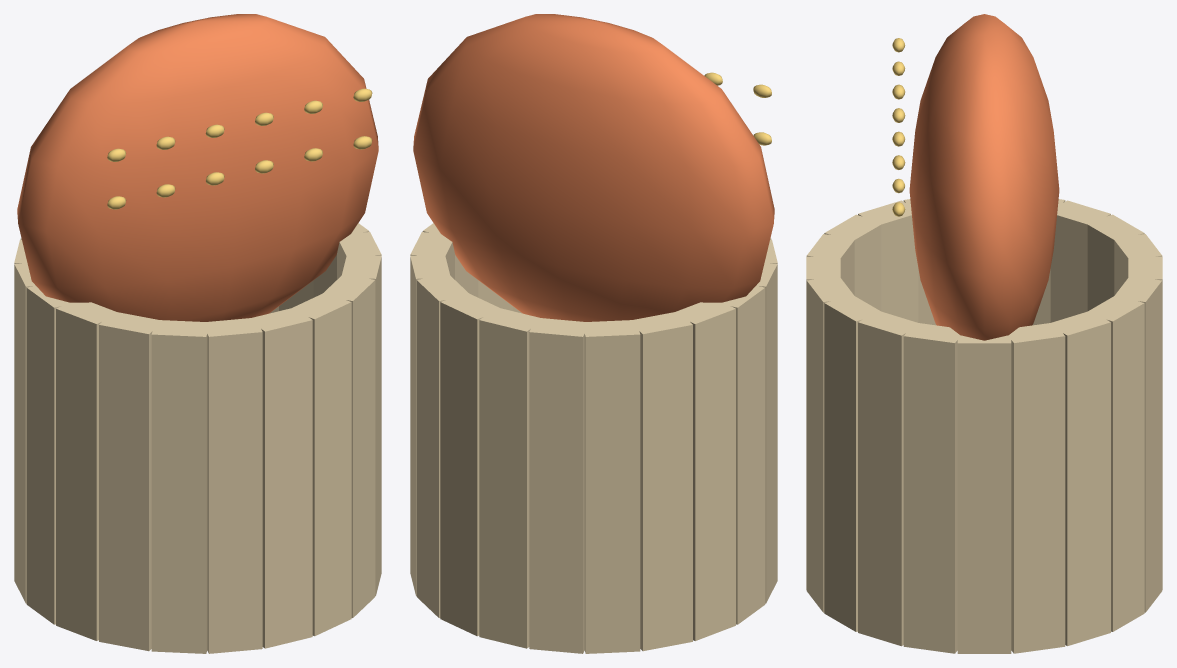
The model's file is SeedHotteok_blockout.glb.
The picture shows the model from 3 angles, left to right: view 1: azimuth 30°, elevation 25°; view 2: azimuth 150°, elevation 25°; view 3: azimuth 270°, elevation 25°; orthographic projection. The views are drawn at different scales.
Parts seen in each view (by area): view 1: FOOD02_SeedHotteok_FoldedDough_L0, FOOD02_SeedHotteok_PaperCupRim13_L0, FOOD02_SeedHotteok_PaperCupRim14_L0, FOOD02_SeedHotteok_PaperCupRim12_L0, FOOD02_SeedHotteok_PaperCupRim15_L0, FOOD02_SeedHotteok_PaperCupRim11_L0, FOOD02_SeedHotteok_PaperCupRim16_L0, FOOD02_SeedHotteok_PaperCupRim10_L0, FOOD02_SeedHotteok_PaperCupRim17_L0, FOOD02_SeedHotteok_PaperCupRim9_L0, FOOD02_SeedHotteok_PaperCupRim18_L0, FOOD02_SeedHotteok_PaperCupRim19_L0 (+1 smaller); view 2: FOOD02_SeedHotteok_FoldedDough_L0, FOOD02_SeedHotteok_PaperCupRim7_L0, FOOD02_SeedHotteok_PaperCupRim6_L0, FOOD02_SeedHotteok_PaperCupRim8_L0, FOOD02_SeedHotteok_PaperCupRim5_L0, FOOD02_SeedHotteok_PaperCupRim9_L0, FOOD02_SeedHotteok_PaperCupRim4_L0, FOOD02_SeedHotteok_PaperCupRim10_L0, FOOD02_SeedHotteok_PaperCupRim3_L0, FOOD02_SeedHotteok_PaperCupRim11_L0, FOOD02_SeedHotteok_PaperCupRim2_L0, FOOD02_SeedHotteok_PaperCupRim1_L0 (+1 smaller); view 3: FOOD02_SeedHotteok_FoldedDough_L0, FOOD02_SeedHotteok_PaperCupRim1_L0, FOOD02_SeedHotteok_PaperCupRim19_L0, FOOD02_SeedHotteok_PaperCupRim0_L0, FOOD02_SeedHotteok_PaperCupRim18_L0, FOOD02_SeedHotteok_PaperCupRim2_L0, FOOD02_SeedHotteok_PaperCupRim17_L0, FOOD02_SeedHotteok_PaperCupRim3_L0, FOOD02_SeedHotteok_PaperCupRim4_L0, FOOD02_SeedHotteok_PaperCupRim16_L0, FOOD02_SeedHotteok_PaperCupRim8_L0, FOOD02_SeedHotteok_PaperCupRim12_L0 (+8 smaller).
Part boxes in pixels (left/top/right/bottom): FOOD02_SeedHotteok_FoldedDough_L0: left=17, top=14, right=378, bottom=321; FOOD02_SeedHotteok_PaperCupRim13_L0: left=151, top=320, right=209, bottom=653; FOOD02_SeedHotteok_PaperCupRim14_L0: left=207, top=317, right=262, bottom=653; FOOD02_SeedHotteok_PaperCupRim12_L0: left=99, top=312, right=162, bottom=651; FOOD02_SeedHotteok_PaperCupRim15_L0: left=251, top=307, right=312, bottom=648; FOOD02_SeedHotteok_PaperCupRim11_L0: left=56, top=302, right=119, bottom=640; FOOD02_SeedHotteok_PaperCupRim16_L0: left=292, top=294, right=351, bottom=636; FOOD02_SeedHotteok_PaperCupRim10_L0: left=26, top=285, right=74, bottom=624; FOOD02_SeedHotteok_PaperCupRim17_L0: left=321, top=276, right=375, bottom=617; FOOD02_SeedHotteok_PaperCupRim9_L0: left=14, top=263, right=35, bottom=603; FOOD02_SeedHotteok_PaperCupRim18_L0: left=341, top=255, right=381, bottom=595; FOOD02_SeedHotteok_PaperCupRim19_L0: left=337, top=232, right=381, bottom=279; FOOD02_SeedHotteok_FoldedDough_L0: left=413, top=14, right=774, bottom=321; FOOD02_SeedHotteok_PaperCupRim7_L0: left=582, top=320, right=640, bottom=653; FOOD02_SeedHotteok_PaperCupRim6_L0: left=529, top=318, right=587, bottom=653; FOOD02_SeedHotteok_PaperCupRim8_L0: left=634, top=312, right=692, bottom=651; FOOD02_SeedHotteok_PaperCupRim5_L0: left=479, top=307, right=543, bottom=648; FOOD02_SeedHotteok_PaperCupRim9_L0: left=672, top=302, right=735, bottom=640; FOOD02_SeedHotteok_PaperCupRim4_L0: left=440, top=294, right=501, bottom=636; FOOD02_SeedHotteok_PaperCupRim10_L0: left=717, top=285, right=765, bottom=624; FOOD02_SeedHotteok_PaperCupRim3_L0: left=416, top=276, right=470, bottom=617; FOOD02_SeedHotteok_PaperCupRim11_L0: left=756, top=263, right=777, bottom=603; FOOD02_SeedHotteok_PaperCupRim2_L0: left=410, top=255, right=450, bottom=595; FOOD02_SeedHotteok_PaperCupRim1_L0: left=410, top=232, right=454, bottom=279; FOOD02_SeedHotteok_FoldedDough_L0: left=909, top=14, right=1059, bottom=340; FOOD02_SeedHotteok_PaperCupRim1_L0: left=1011, top=323, right=1065, bottom=653; FOOD02_SeedHotteok_PaperCupRim19_L0: left=903, top=323, right=957, bottom=653; FOOD02_SeedHotteok_PaperCupRim0_L0: left=957, top=333, right=1011, bottom=653; FOOD02_SeedHotteok_PaperCupRim18_L0: left=858, top=310, right=920, bottom=646; FOOD02_SeedHotteok_PaperCupRim2_L0: left=1048, top=310, right=1110, bottom=646; FOOD02_SeedHotteok_PaperCupRim17_L0: left=824, top=296, right=880, bottom=631; FOOD02_SeedHotteok_PaperCupRim3_L0: left=1088, top=296, right=1144, bottom=631; FOOD02_SeedHotteok_PaperCupRim4_L0: left=1113, top=276, right=1162, bottom=612; FOOD02_SeedHotteok_PaperCupRim16_L0: left=806, top=278, right=855, bottom=612; FOOD02_SeedHotteok_PaperCupRim8_L0: left=1050, top=200, right=1110, bottom=322; FOOD02_SeedHotteok_PaperCupRim12_L0: left=858, top=200, right=918, bottom=322.
Size of the model in its own units: 0.095 by 0.14 by 0.0832.
